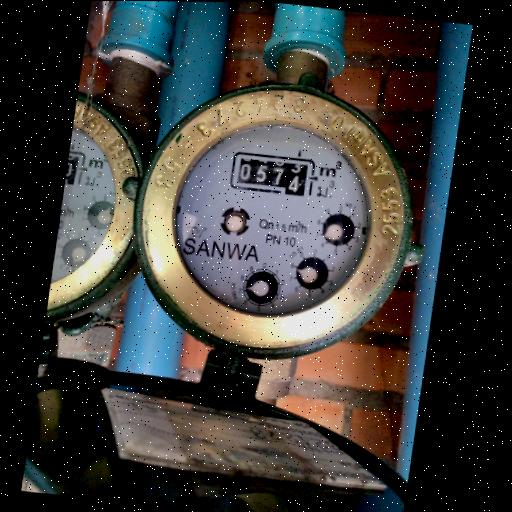0: (236, 158, 254, 184)
4: (284, 163, 308, 197)
5: (250, 159, 271, 186)
7: (267, 161, 289, 188)
border_water_meter_number: (226, 151, 317, 199)
